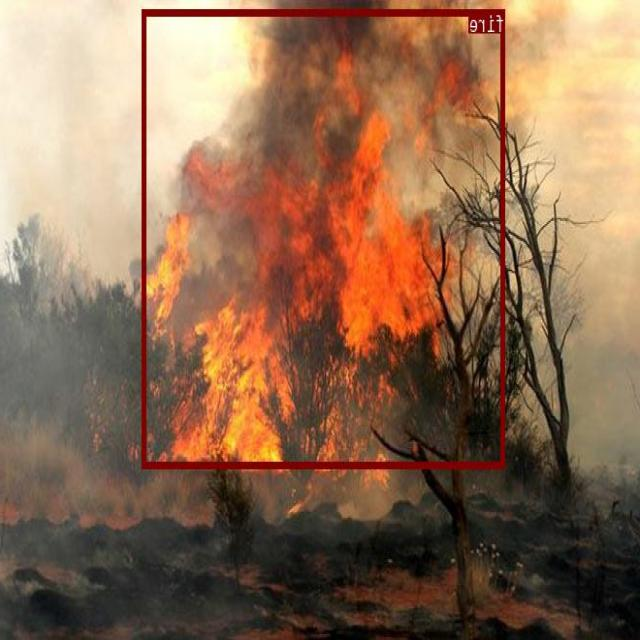fire: (144, 8, 506, 467)
